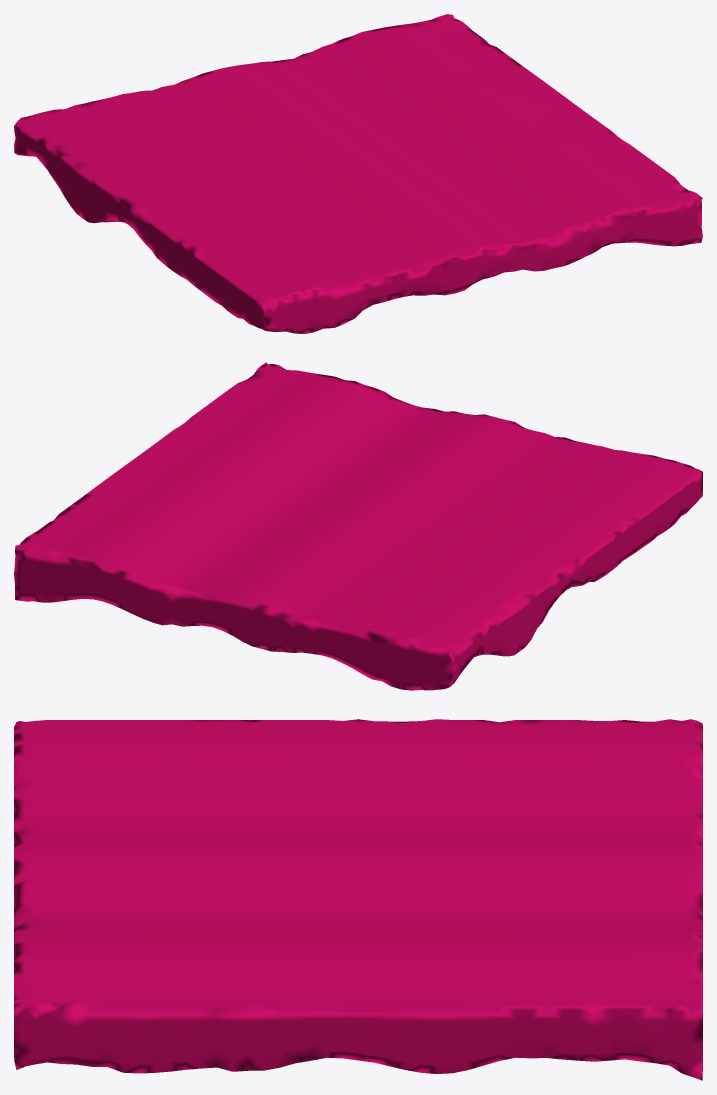
The model's file is 02_PapillaryDermis_collision.obj.
3 views of the same model, one above another, from view 1: azimuth 30°, elevation 25°; view 2: azimuth 150°, elevation 25°; view 3: azimuth 270°, elevation 25° (orthographic). The views are drawn at different scales.
Visible parts, largest first — view 1: 02_PapillaryDermis_collision; view 2: 02_PapillaryDermis_collision; view 3: 02_PapillaryDermis_collision.
Boxes of the visible parts, box(x1,y1,x2,y2) form: 02_PapillaryDermis_collision: box(14, 14, 702, 333); 02_PapillaryDermis_collision: box(14, 362, 702, 690); 02_PapillaryDermis_collision: box(14, 719, 702, 1080).
Bounding box in the file's own units: 1.12 × 0.1375 × 1.12.
